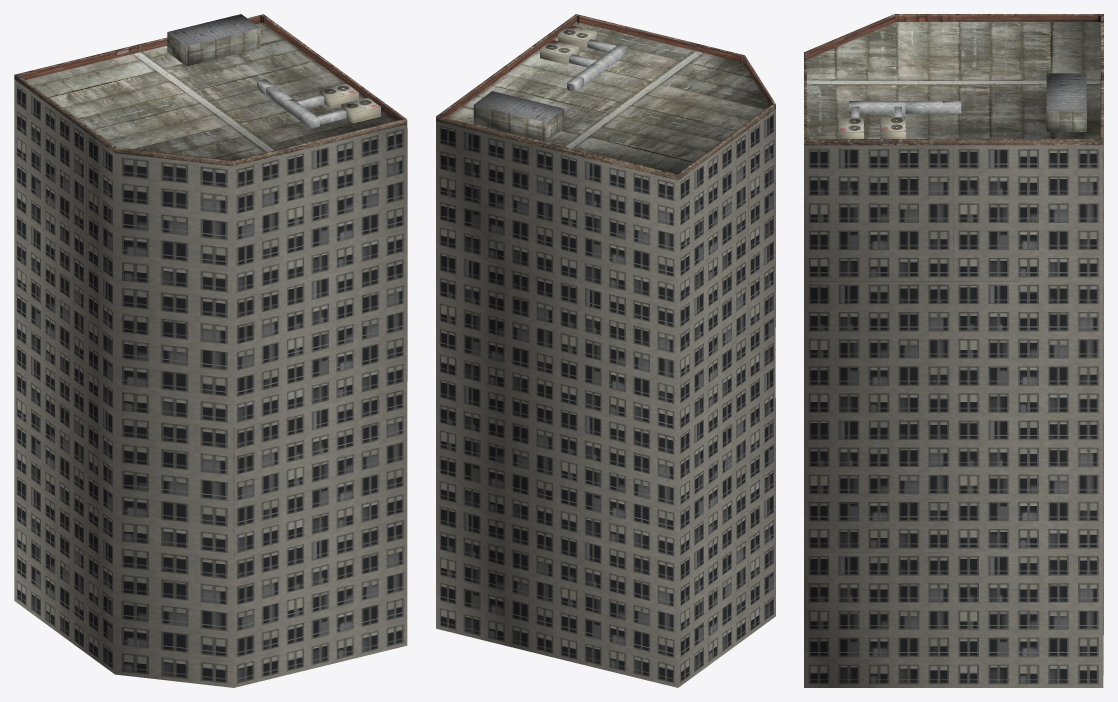
The model's file is building3.obj.
3 views of the same model, side by side, from view 1: azimuth 30°, elevation 25°; view 2: azimuth 150°, elevation 25°; view 3: azimuth 270°, elevation 25° (orthographic). The views are drawn at different scales.
Size of the model in its own units: 25.29 by 52.36 by 25.34.
Materials: 1 (1 with a texture image).
